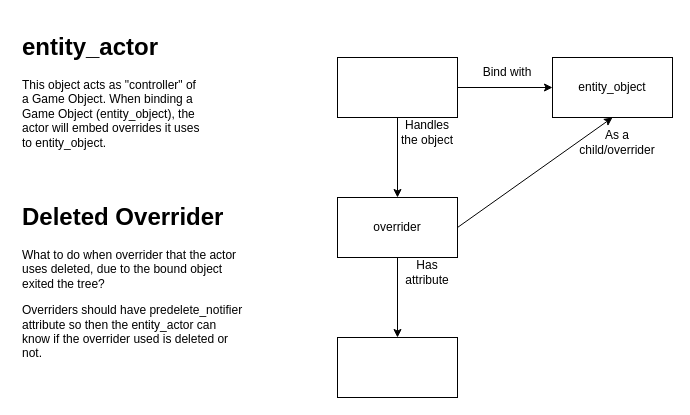
The diagram is 690 pixels wide and 415 high, and some of its shapes have lost their labels. The centre of each missing label's shape, as x and y in pixels:
"entity_actor" belongs at pixel 397 87.
"predelete_notifier" belongs at pixel 397 367.
